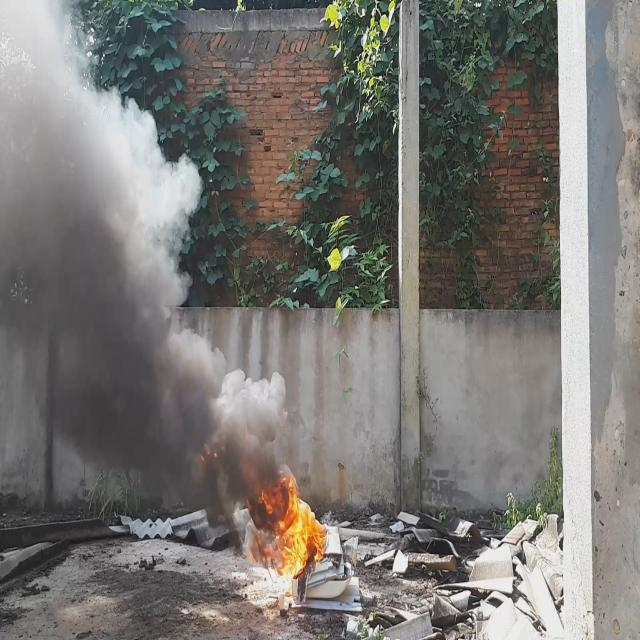Fire: (258, 468, 328, 588)
Smoke: (0, 0, 289, 506)
